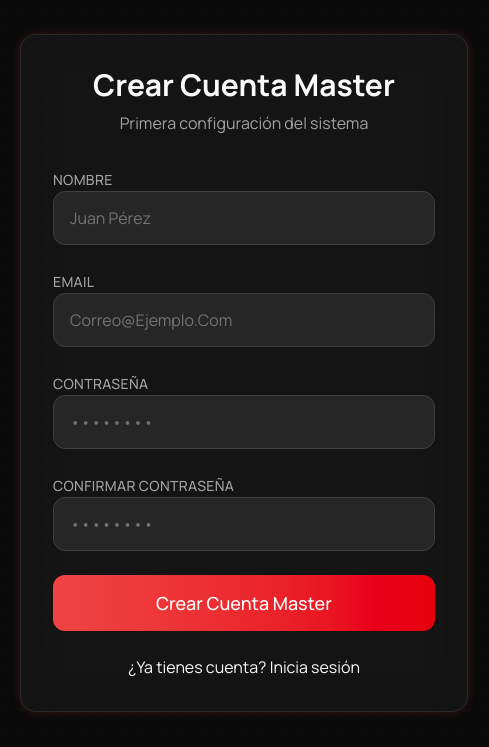
RegisterForm › shows validation error for short password
Type "Test User" into the field with placeholder "Juan Pérez" at coordinates (244, 218), box [53,191,435,245]
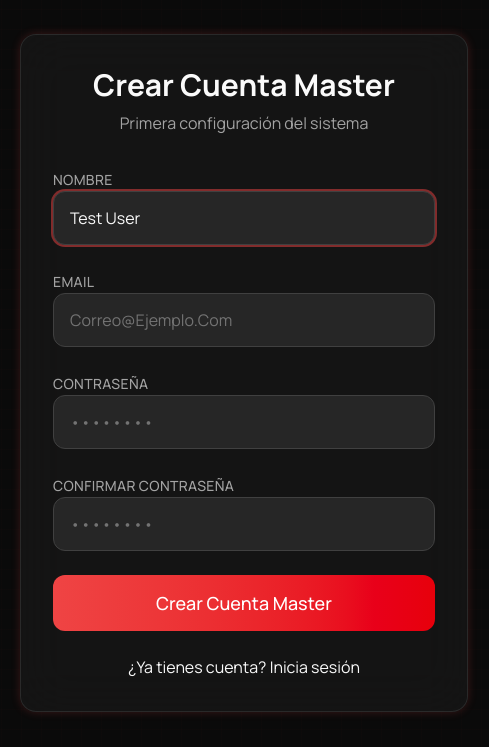
Type "user@example.com" into the field with placeholder "correo@ejemplo.com" at coordinates (244, 320), box [53,293,435,347]
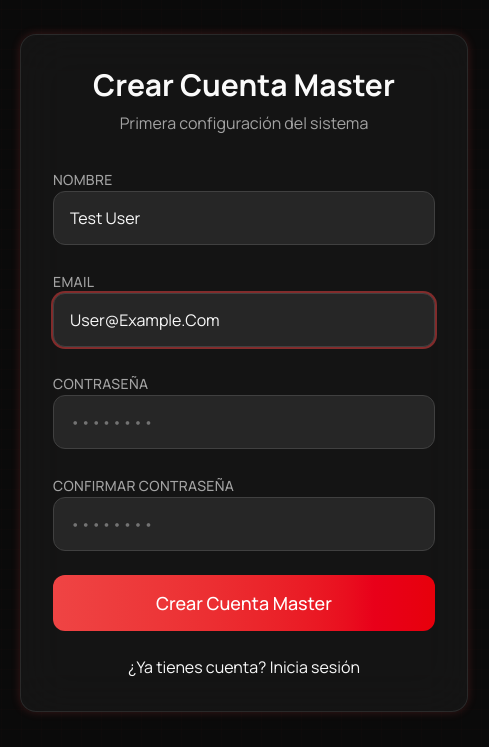
Type "12345" into the 1st password field with placeholder "••••••••" at coordinates (244, 422), box [53,395,435,449]
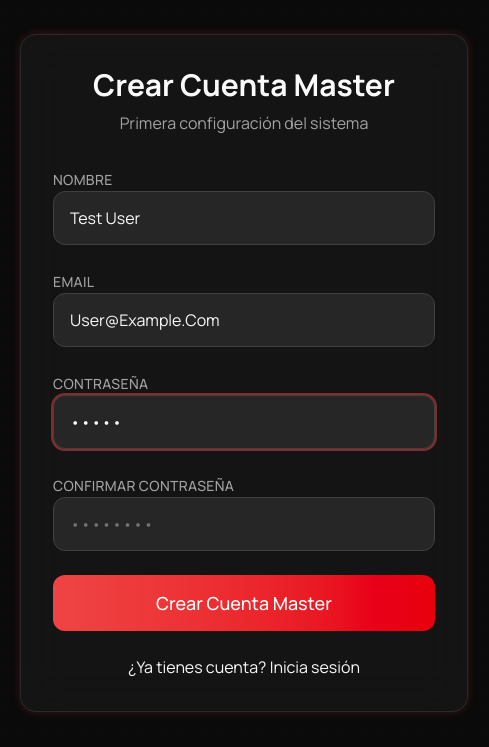
Type "12345" into the password field with placeholder "••••••••" at coordinates (244, 524), box [53,497,435,551]
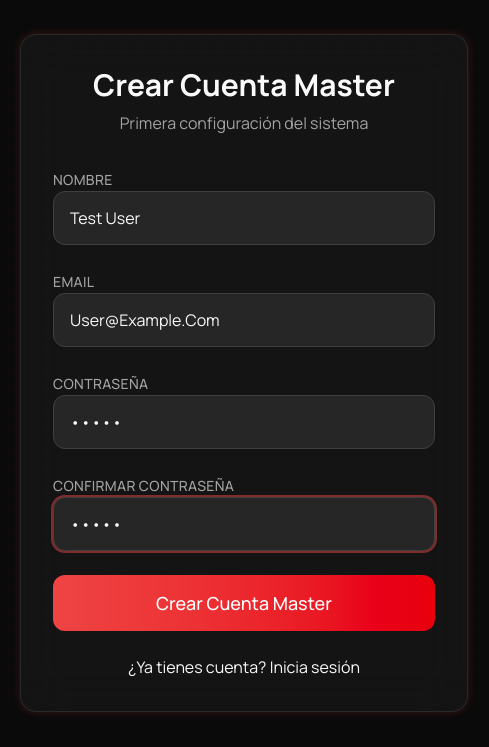
Click the button "Crear Cuenta Master" at coordinates (244, 603), box [53,575,435,631]
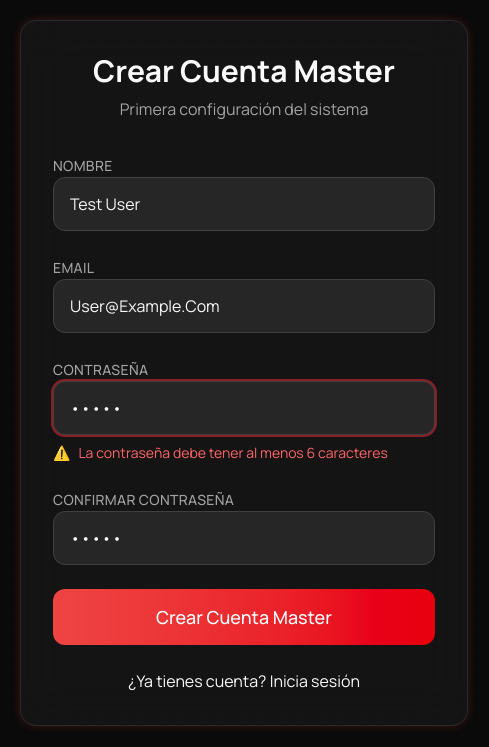
Now the text "La contraseña debe tener al menos 6 caracteres" is shown, box [78,443,388,462]
